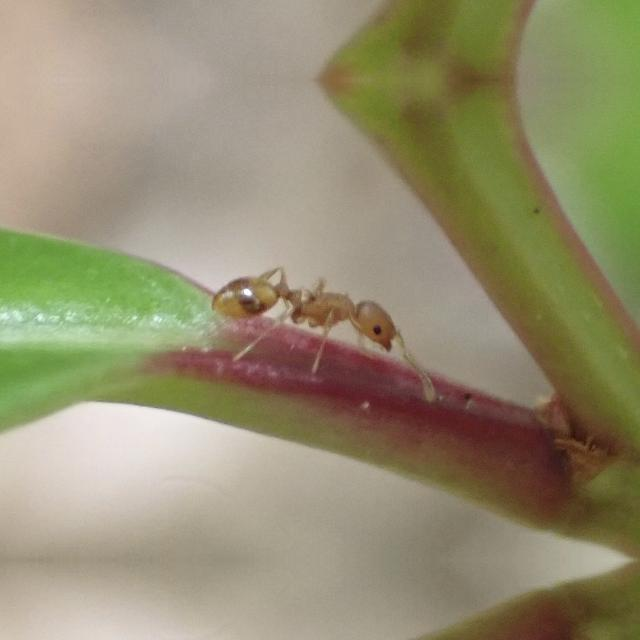Temnothorax: (198, 244, 424, 392)
